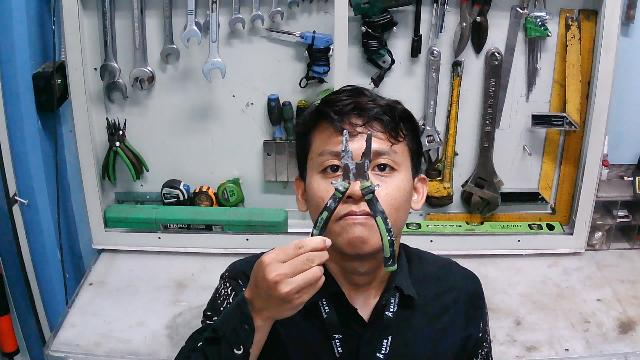tang_kombinasi: (309, 129, 399, 273)
